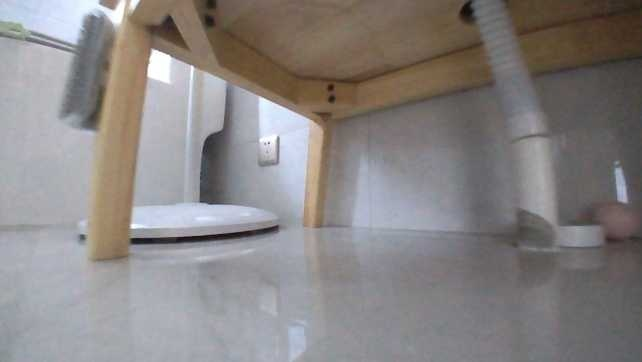chair_base: (76, 192, 285, 244)
toilet: (0, 9, 231, 232)
